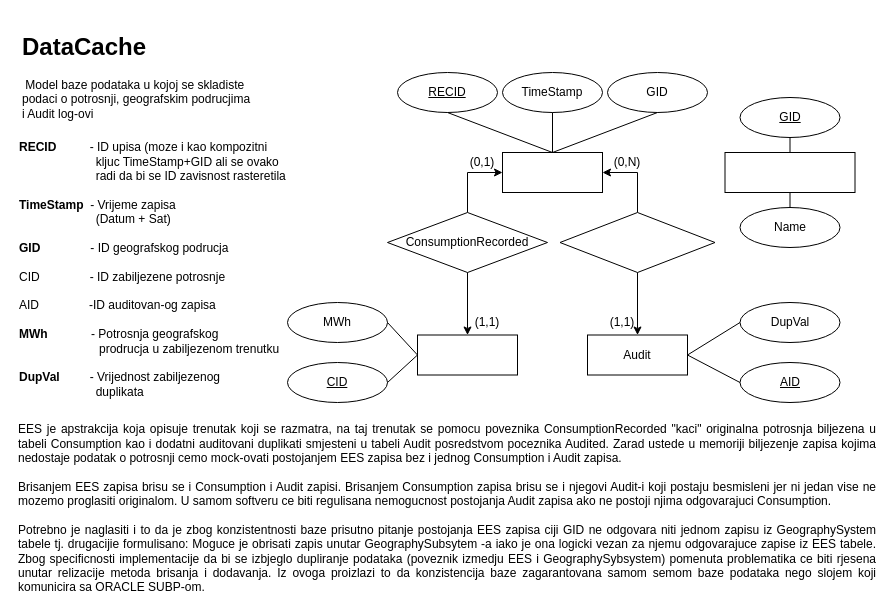
The diagram is 894 pixels wide and 612 high, and some of its shapes have lost their labels. Here are the shapes that lost their labels. From the top down, the box of each, then its label:
(502, 152, 602, 192): EES
(724, 152, 855, 192): GeographySubsystem
(559, 212, 715, 272): ConsumptionAudited
(416, 334, 518, 375): Consumption
